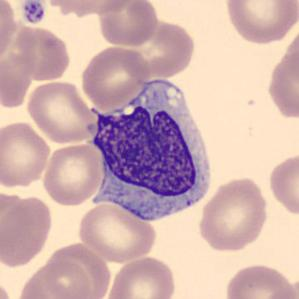Monocyte: (86, 73, 218, 228)
Platelets: (20, 0, 46, 26)
RBC: (197, 174, 271, 254), (76, 200, 158, 264), (24, 79, 102, 145), (79, 44, 151, 110), (124, 17, 198, 80), (40, 237, 112, 298), (41, 142, 104, 208), (0, 194, 55, 269), (8, 24, 72, 83), (0, 119, 51, 188), (221, 0, 297, 46), (104, 254, 178, 299), (264, 29, 299, 124), (96, 0, 160, 48), (223, 261, 297, 299), (35, 258, 95, 299), (266, 150, 299, 218), (46, 0, 135, 17), (0, 0, 17, 65), (259, 289, 298, 299), (0, 278, 13, 299)
